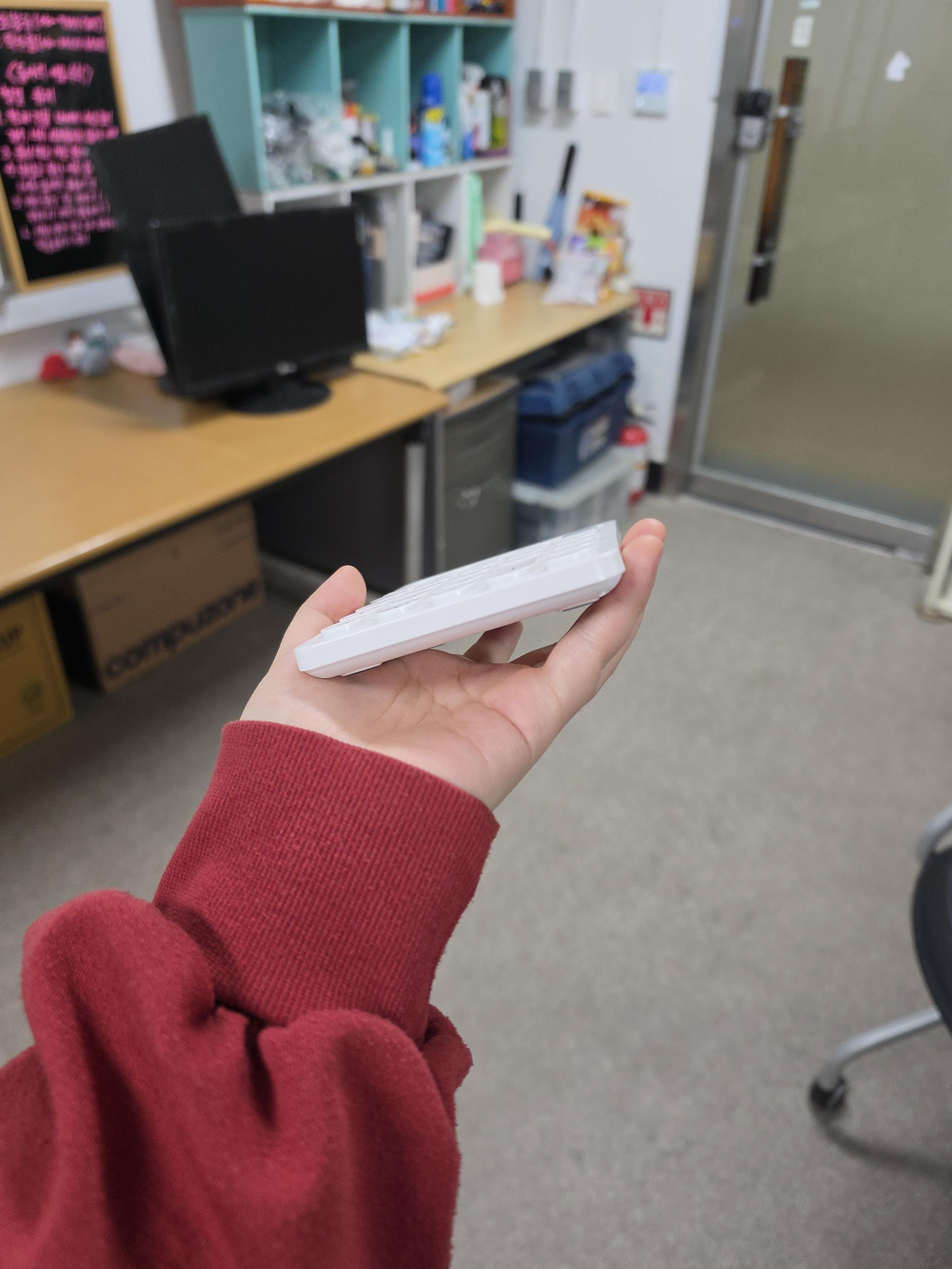calculator: (294, 520, 625, 679)
